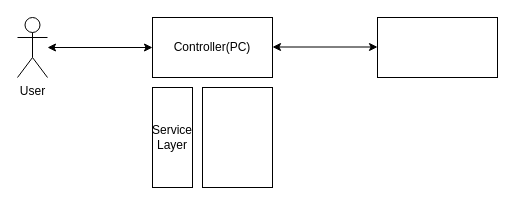
Some shapes in this 515 by 205 pixel diagram are drawn without their labels. Each missing label, with the centre of its shape:
Enviroment Layer: the point at 237,137
Instrument: the point at 437,47
